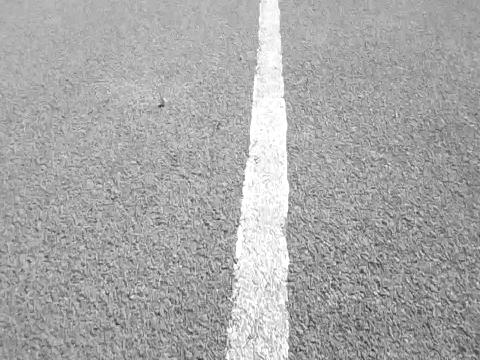Lines: (224, 0, 289, 360)
